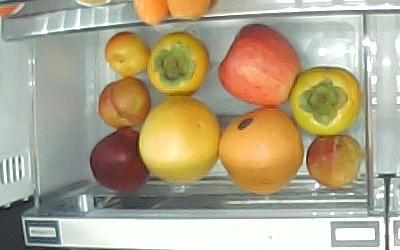apple: (217, 23, 301, 108), (90, 127, 150, 194)
grapefruit: (219, 108, 305, 195), (139, 97, 221, 184)
persimmon: (287, 65, 361, 136), (146, 31, 210, 96)
prune: (305, 135, 362, 189), (97, 77, 150, 129), (105, 31, 151, 77)
